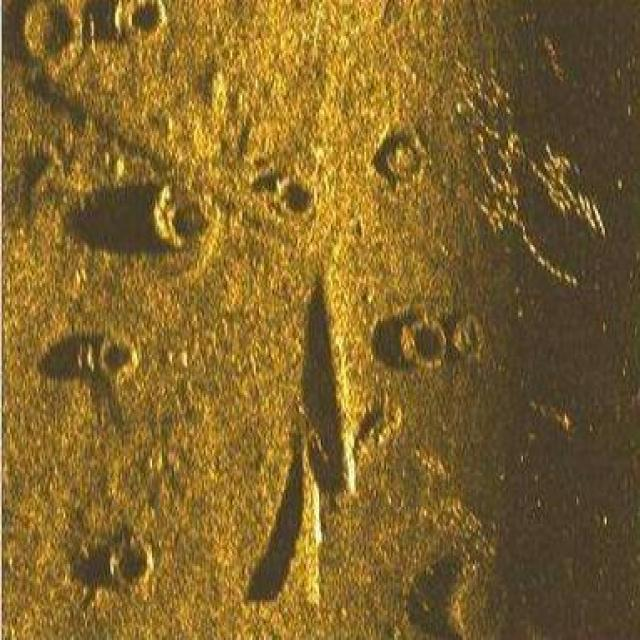other: (318, 234, 374, 498), (292, 402, 328, 612), (20, 2, 87, 78), (78, 317, 144, 386), (144, 173, 199, 254), (374, 122, 434, 188), (396, 304, 450, 372), (104, 524, 156, 591), (107, 0, 172, 44), (450, 302, 484, 357)
